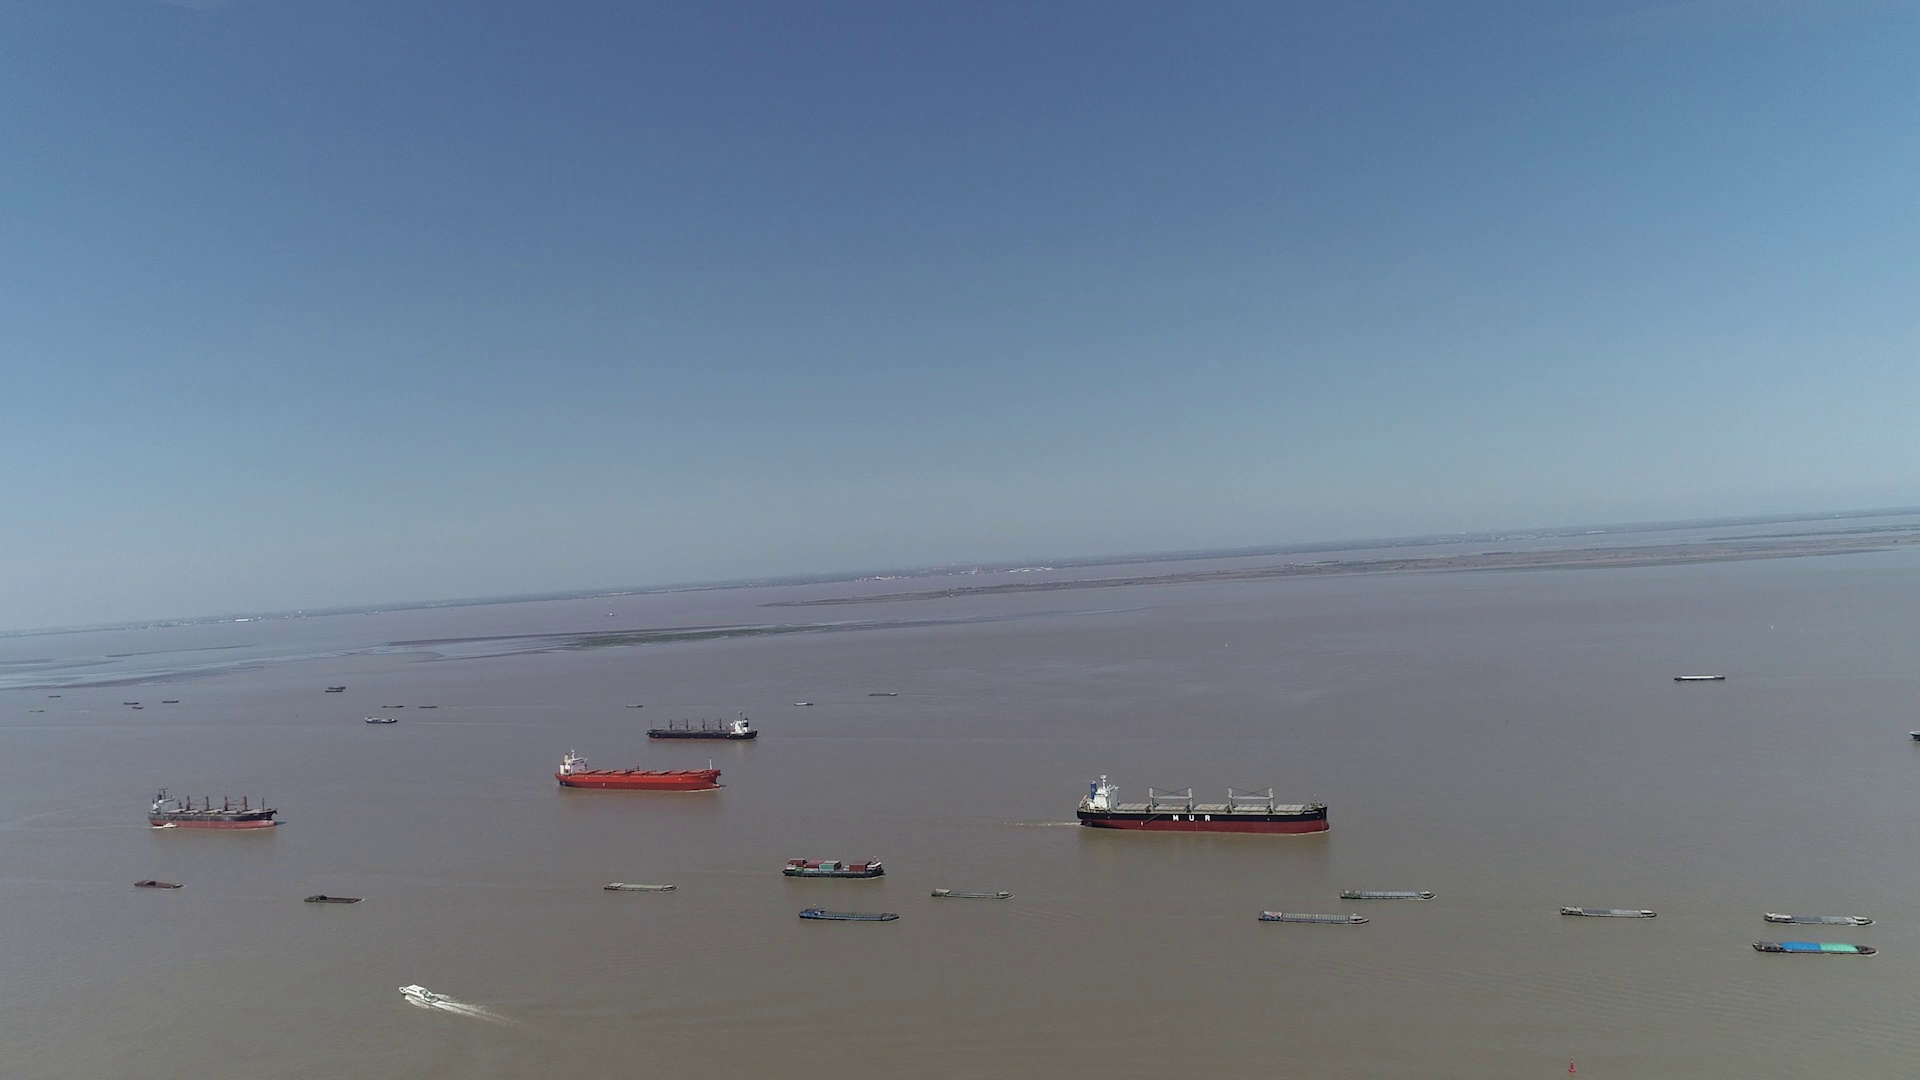ship: (1079, 771, 1327, 835), (555, 748, 721, 793), (146, 789, 278, 829), (646, 713, 757, 740), (781, 856, 884, 878), (1753, 938, 1876, 956), (1255, 909, 1369, 926), (1557, 903, 1658, 919), (800, 906, 898, 922), (404, 986, 456, 1015), (1340, 887, 1431, 901), (1762, 913, 1873, 923), (928, 885, 1007, 899), (605, 878, 676, 891), (303, 893, 361, 905), (135, 878, 181, 889), (1672, 674, 1724, 682), (363, 715, 397, 724), (123, 699, 140, 705)
